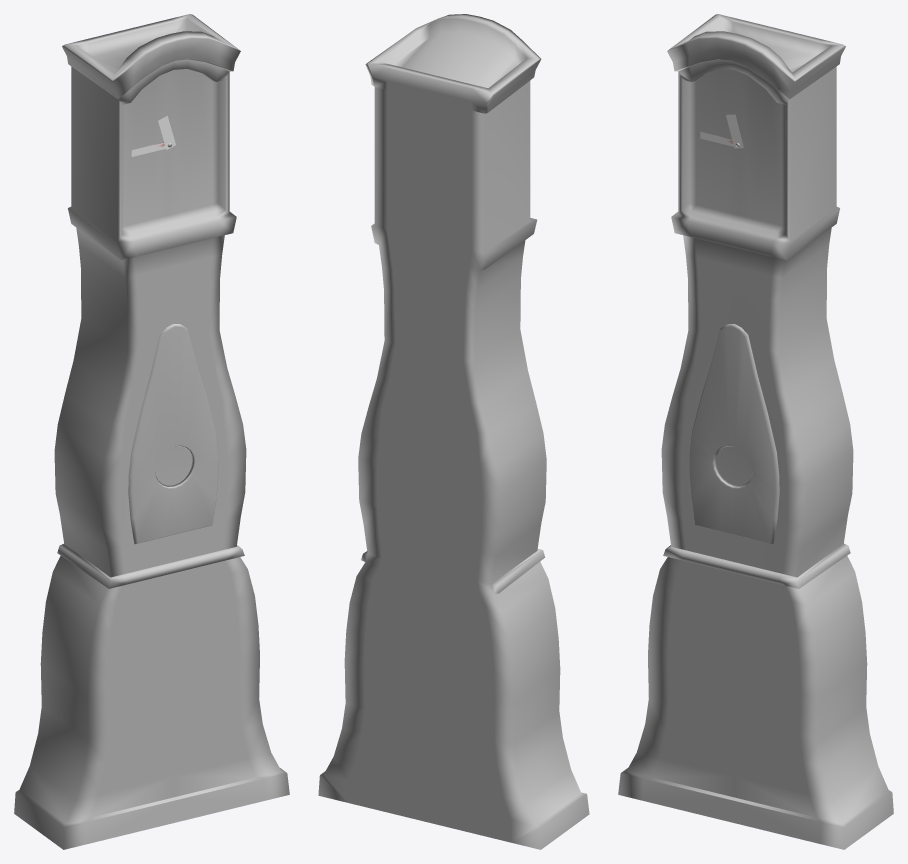
The model's file is En_P_PendulumClock.fbx.
3 renders of one model, left to right at view 1: azimuth 30°, elevation 25°; view 2: azimuth 150°, elevation 25°; view 3: azimuth 330°, elevation 25°, orthographic.
Parts seen in each view (by area): view 1: Golvur_low; view 2: Golvur_low; view 3: Golvur_low.
Part boxes in pixels (x1,y1,x2,y2): Golvur_low: (14,14,289,849); Golvur_low: (318,14,589,849); Golvur_low: (618,14,893,849).
Size of the model in its own units: 60.47 by 200 by 23.65.
